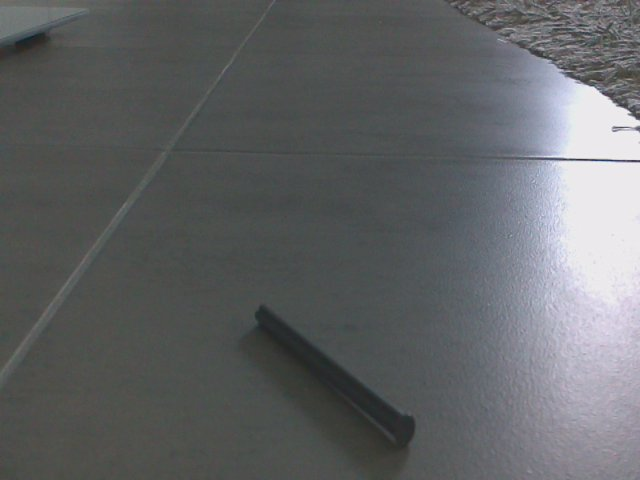Grau_lang: (247, 291, 425, 454)
